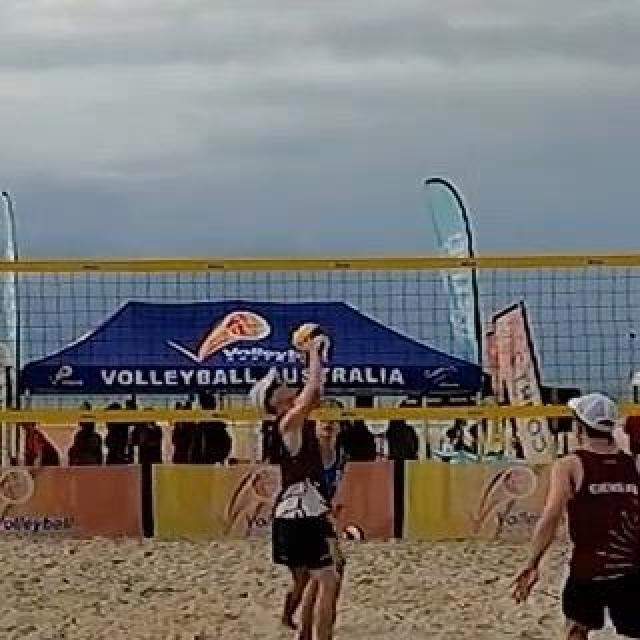volleyball: (293, 321, 327, 355), (344, 528, 364, 546)
